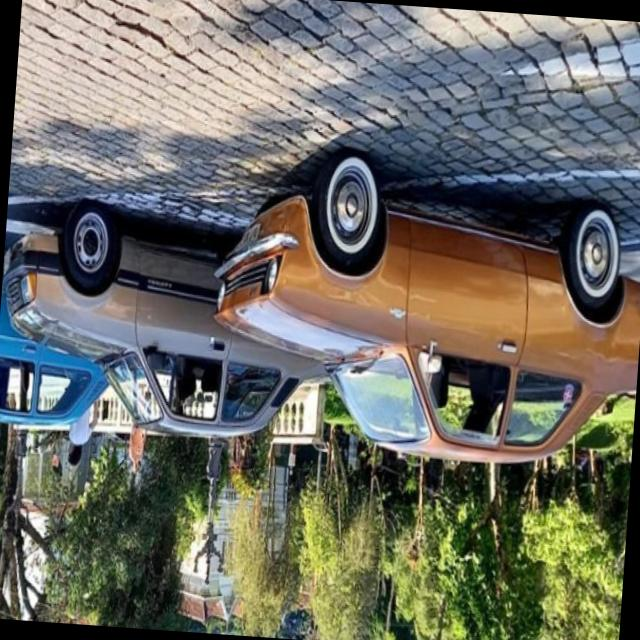car: (200, 152, 640, 472), (0, 186, 349, 439)
